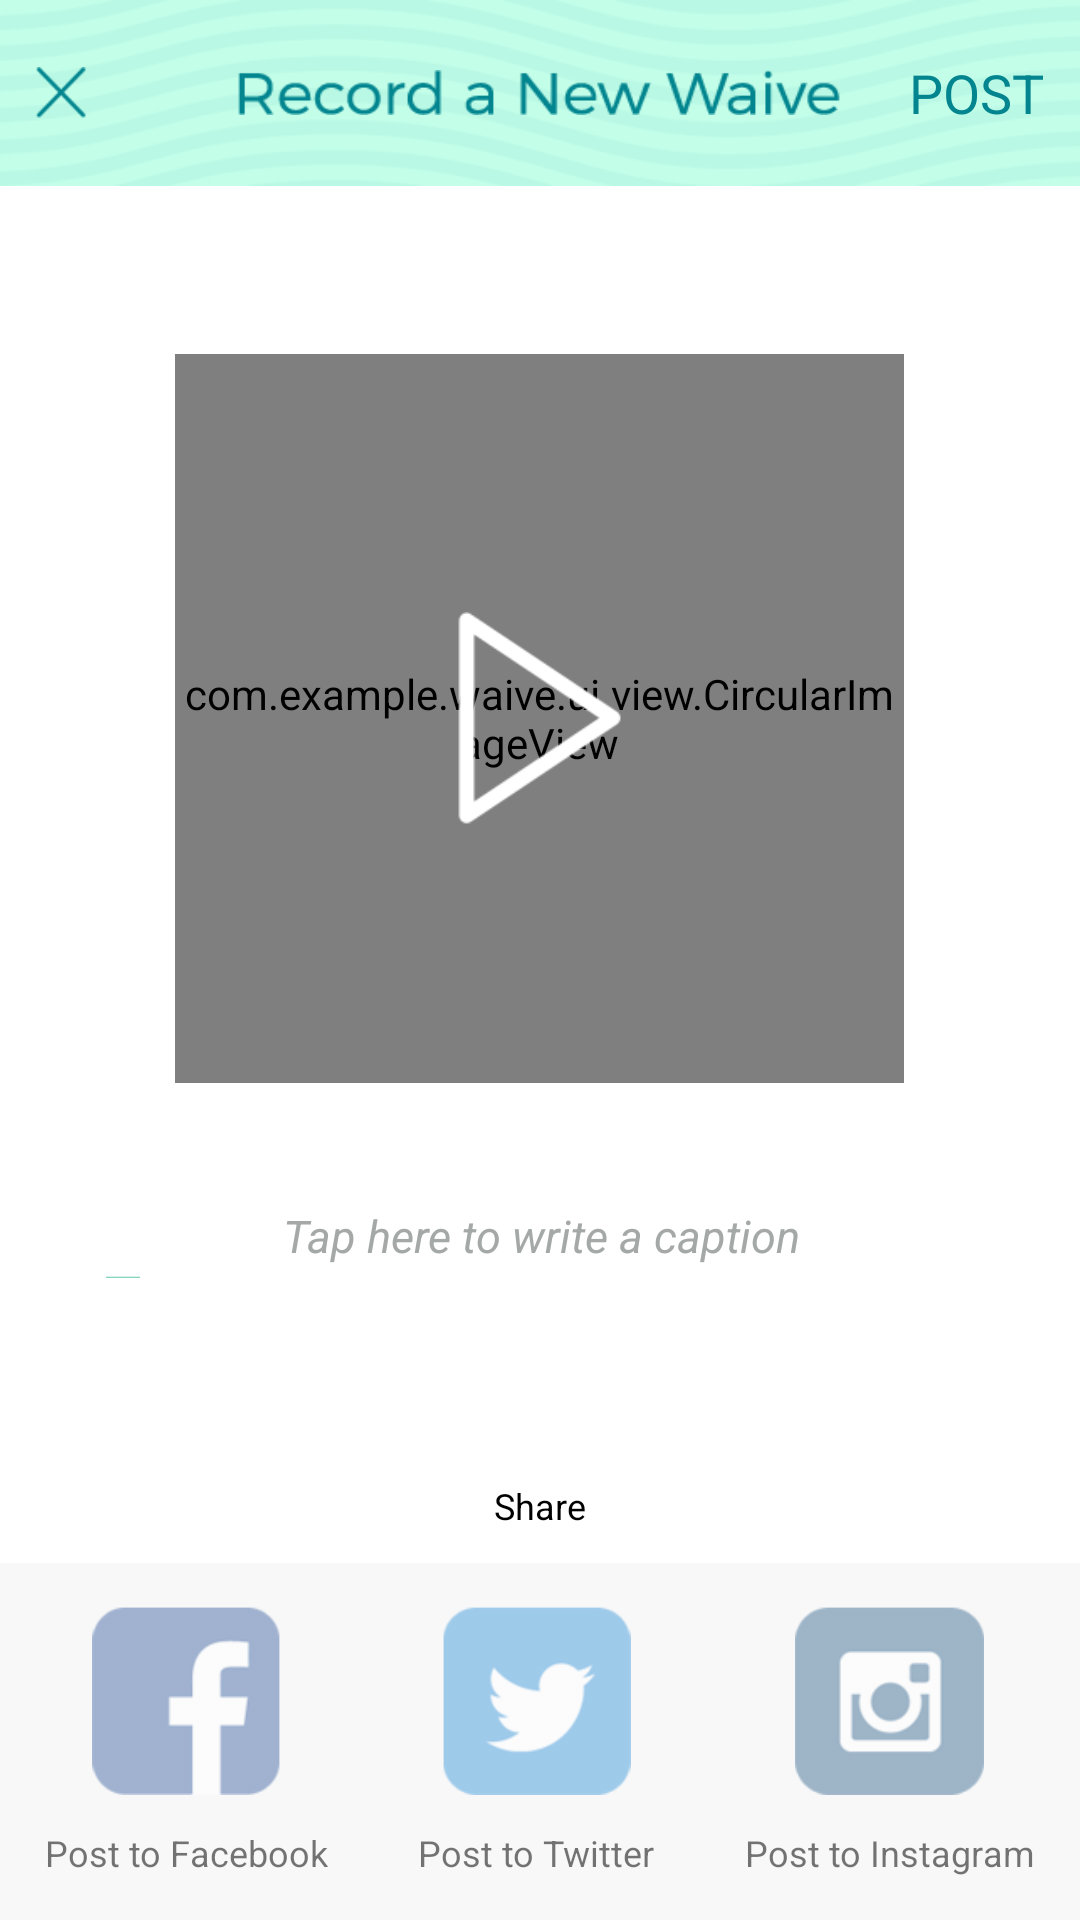

Icons on this 1080x1920 Android screen, each with its box as bbox=(x1, y1, x2, y2):
close: bbox=(36, 67, 86, 118)
play: bbox=(457, 612, 622, 824)
